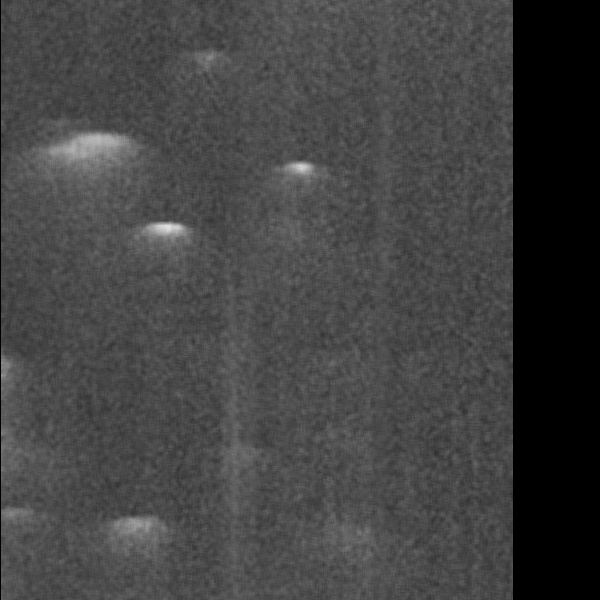spark: (17, 145, 118, 196), (356, 308, 417, 371), (475, 35, 510, 105), (251, 521, 300, 570), (41, 277, 92, 320), (453, 417, 504, 457), (270, 187, 309, 222), (170, 474, 206, 507), (384, 15, 419, 42), (181, 546, 221, 567)
